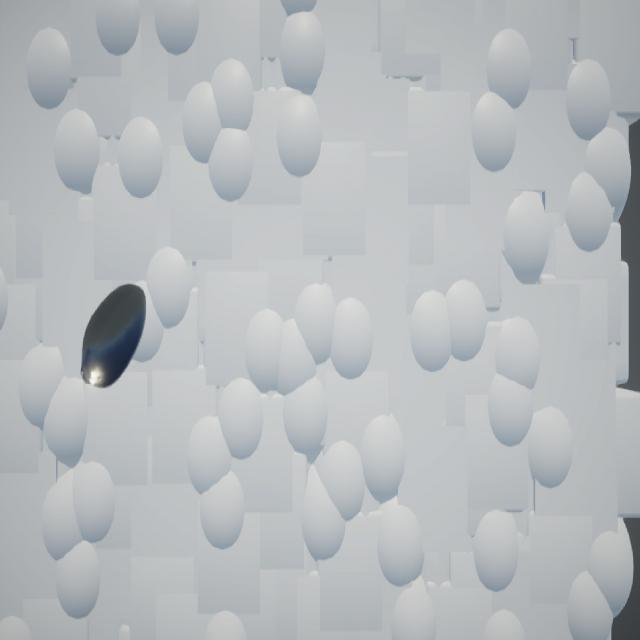top_spoon: (81, 285, 148, 390)
